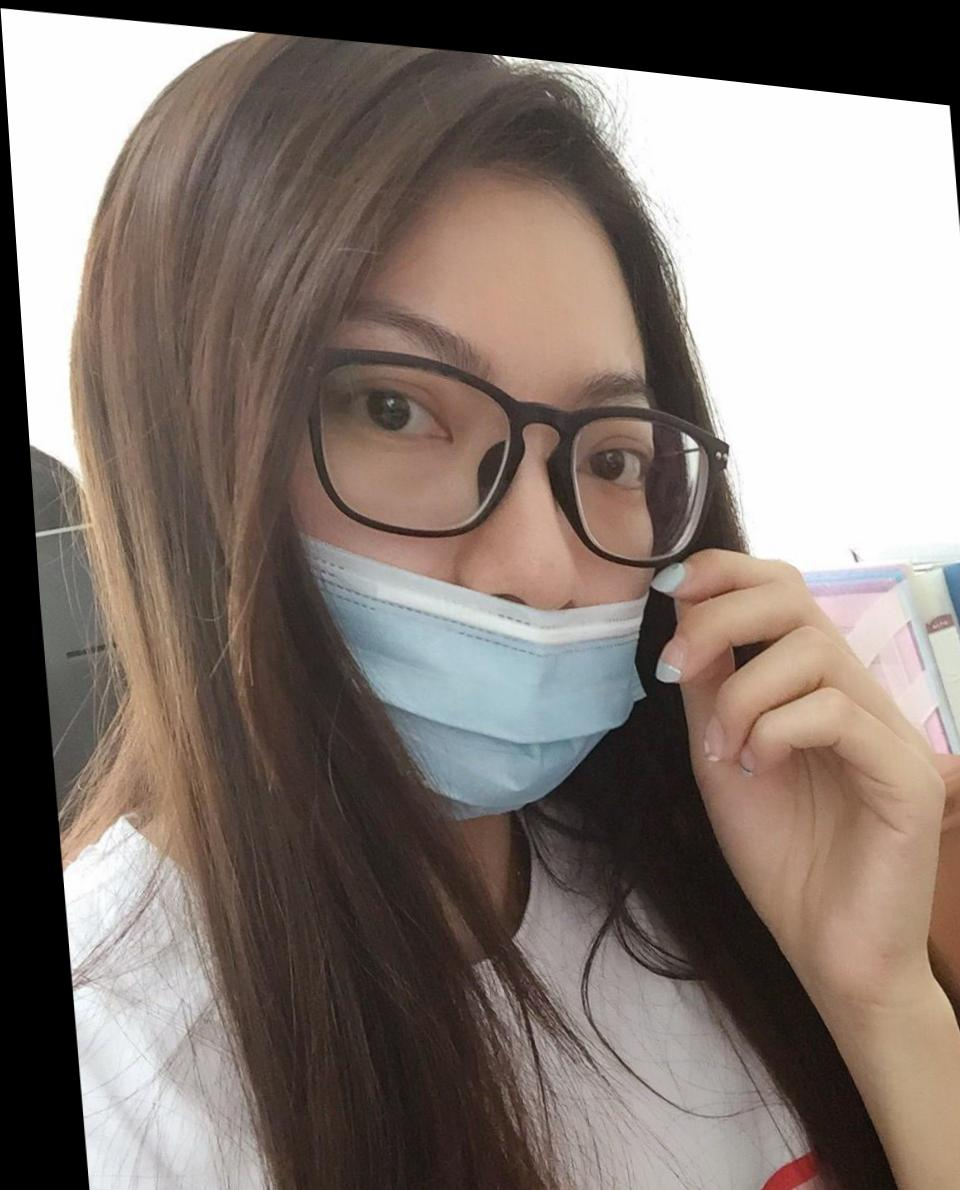WRONG: (201, 228, 713, 838)
